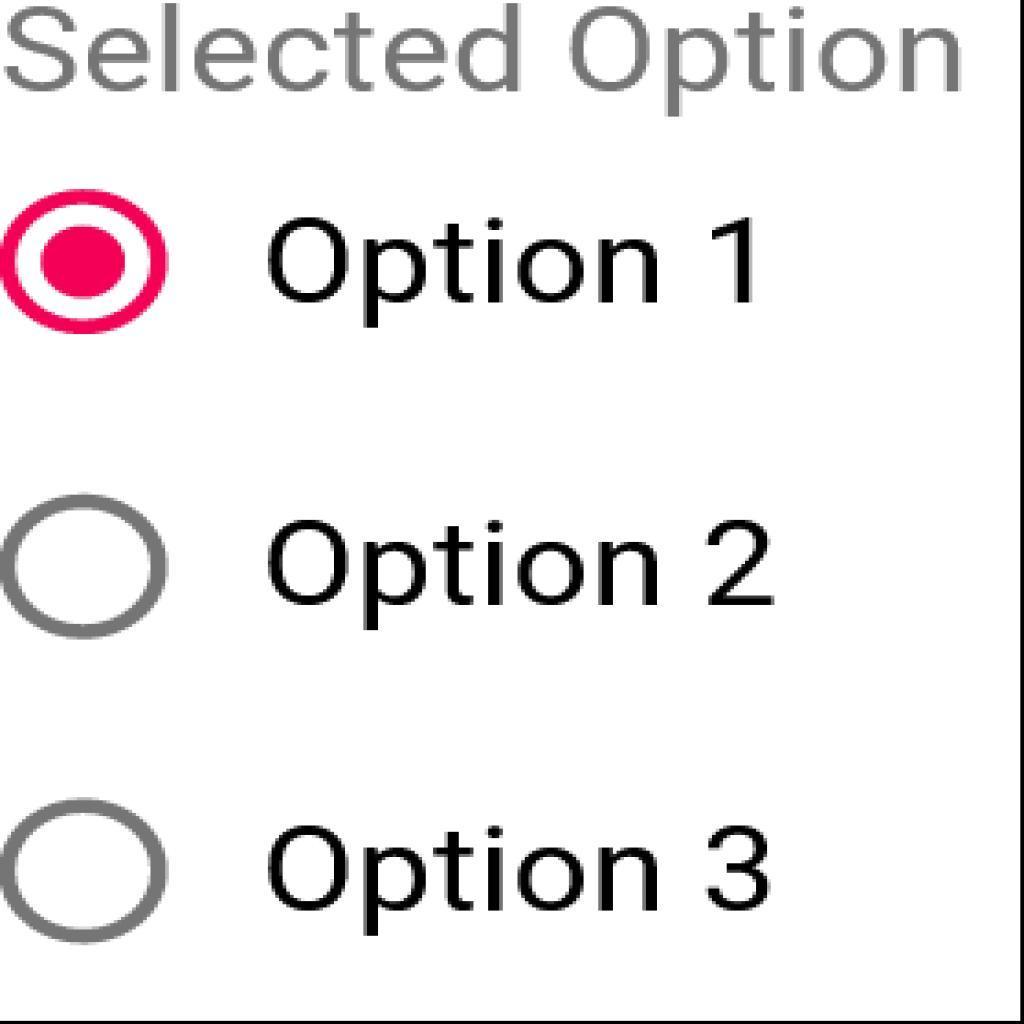radio: (2, 181, 173, 344), (4, 793, 177, 952), (5, 488, 167, 648)
